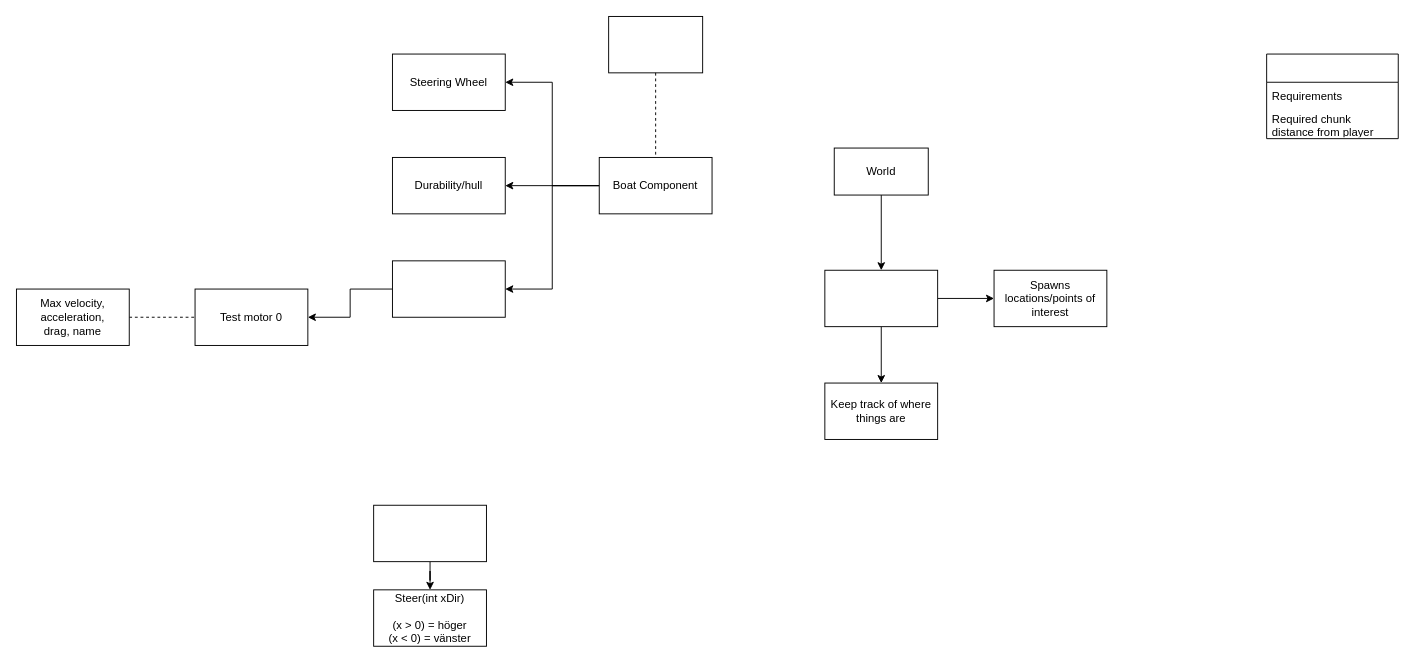
The diagram is 1415 pixels wide and 663 high, and some of its shapes have lost their labels. Each missing label, with the box of its shape:
Boat behaviour: (373, 504, 486, 562)
Controlling things outside of boat enviorment: (824, 269, 938, 327)
Event: (1266, 53, 1398, 139)
Get boat behaviour script: (608, 16, 703, 73)
Motor: (392, 260, 505, 317)
